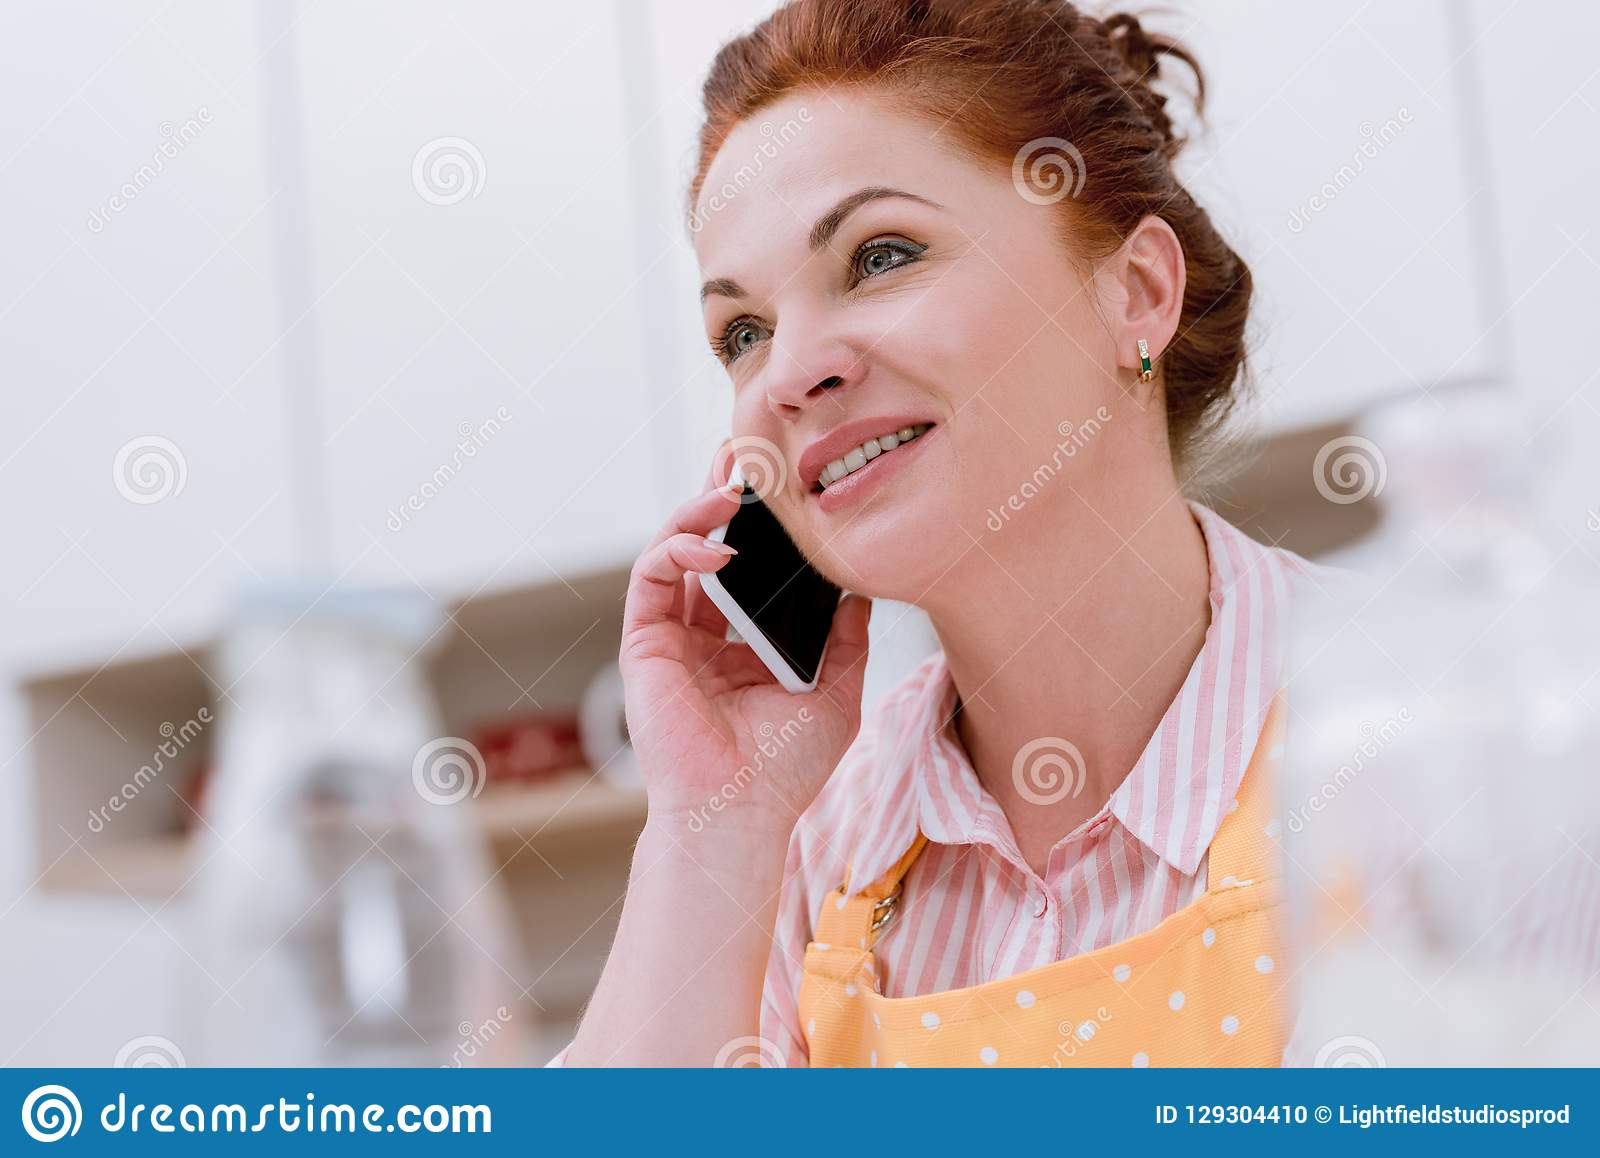phone: (701, 463, 848, 704)
talk: (615, 166, 981, 831)
